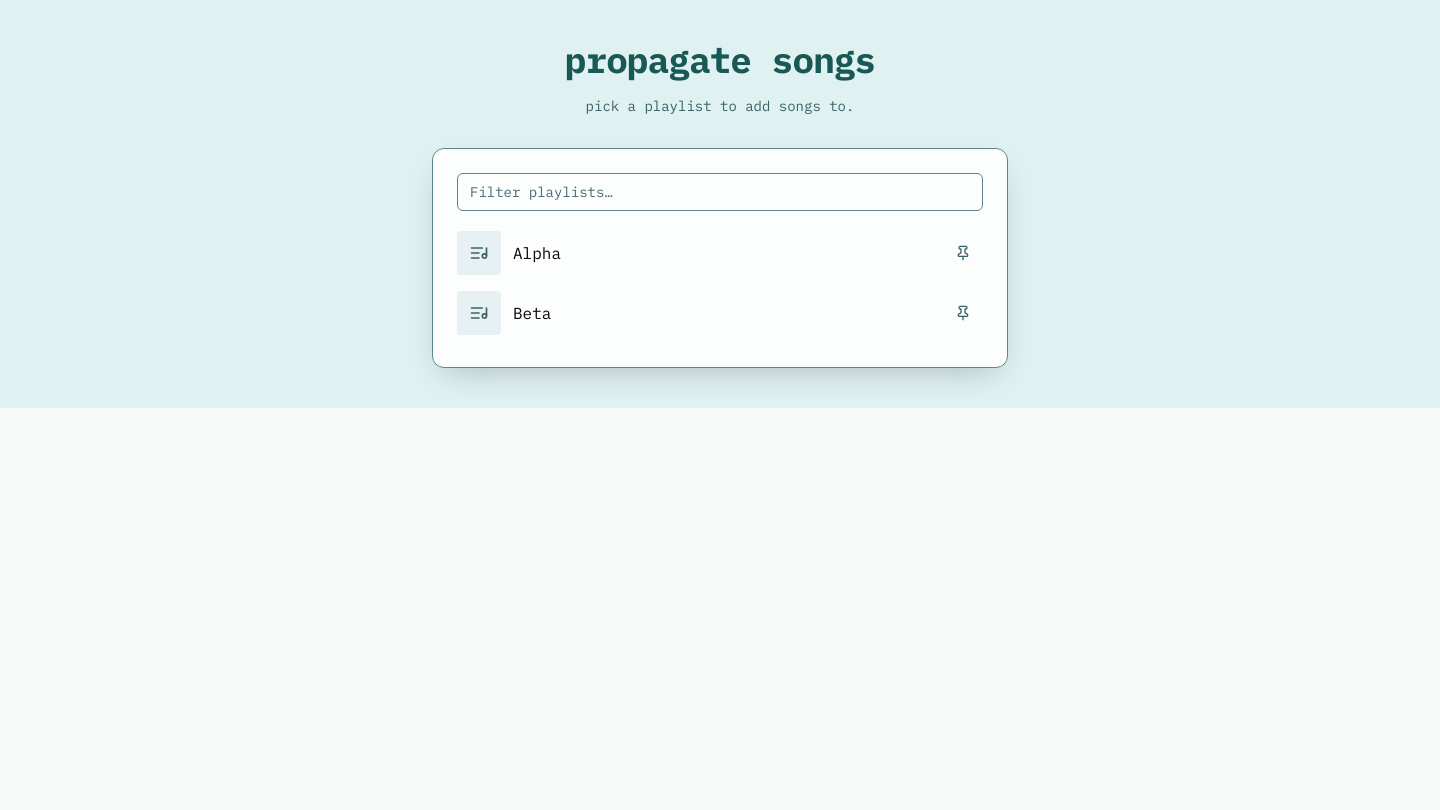
Scenario: Propagate destination chooser page › dismissing the source dialog selects nothing and navigates nowhere
Expected: the text "Alpha" is shown, [513,241,561,265]
Click the button "Alpha".
click(479, 253)  # box [457,231,935,275]
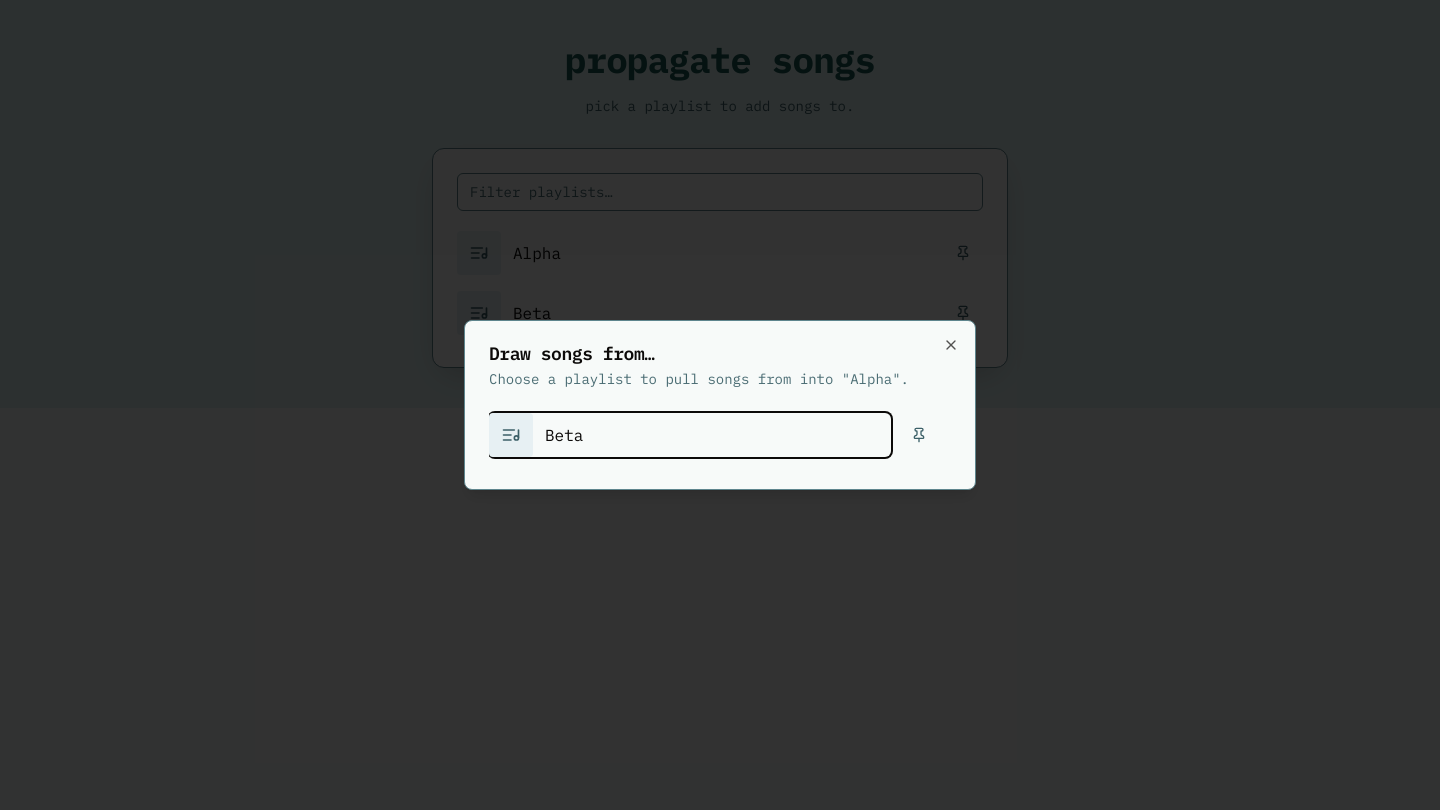
Expected: the dialog is shown
Press Escape in the dialog, box [464,320,976,490]
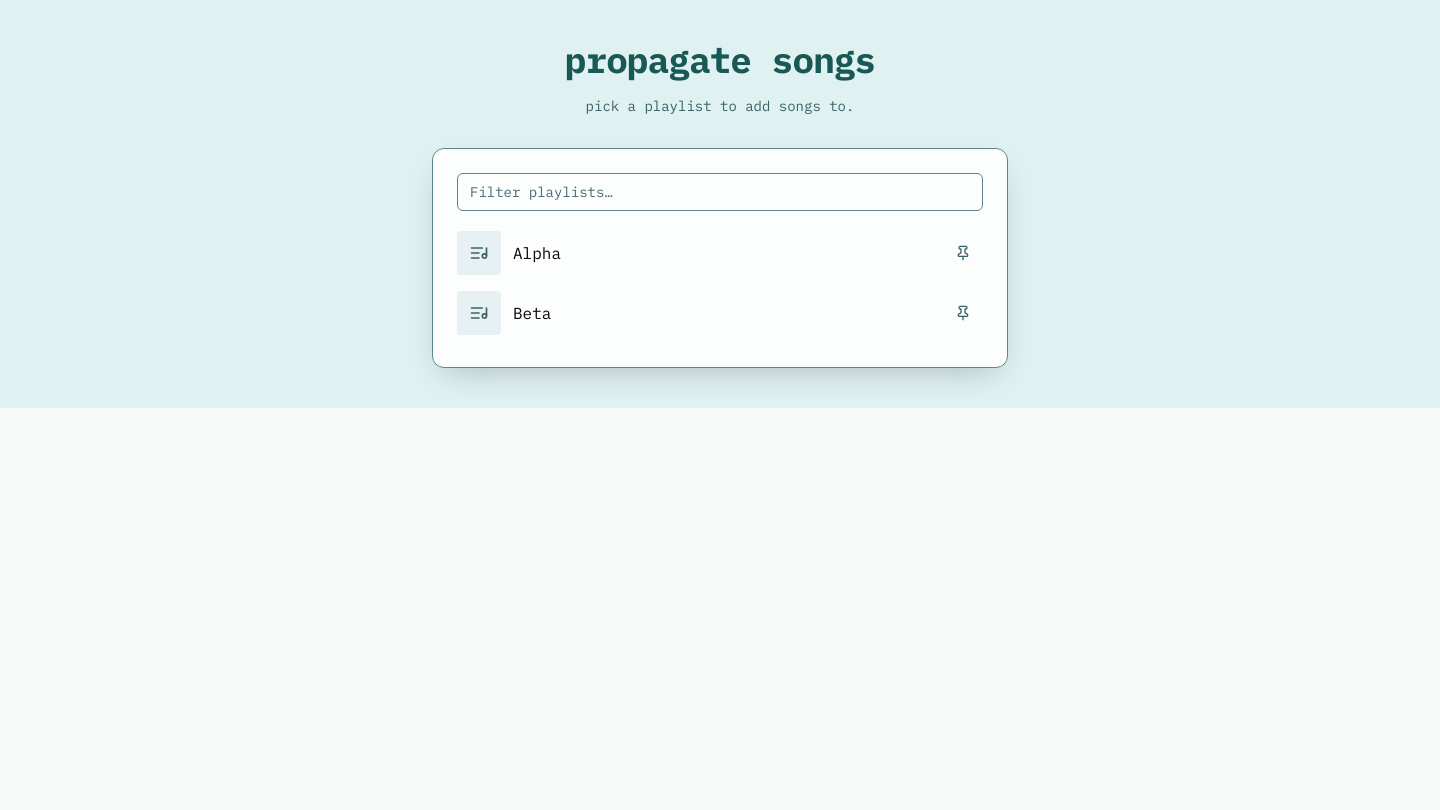
Expected: the dialog is gone
